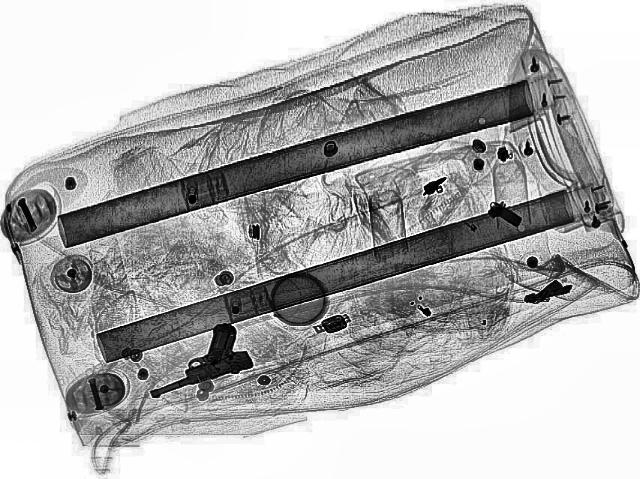Gun: (123, 321, 261, 397)
